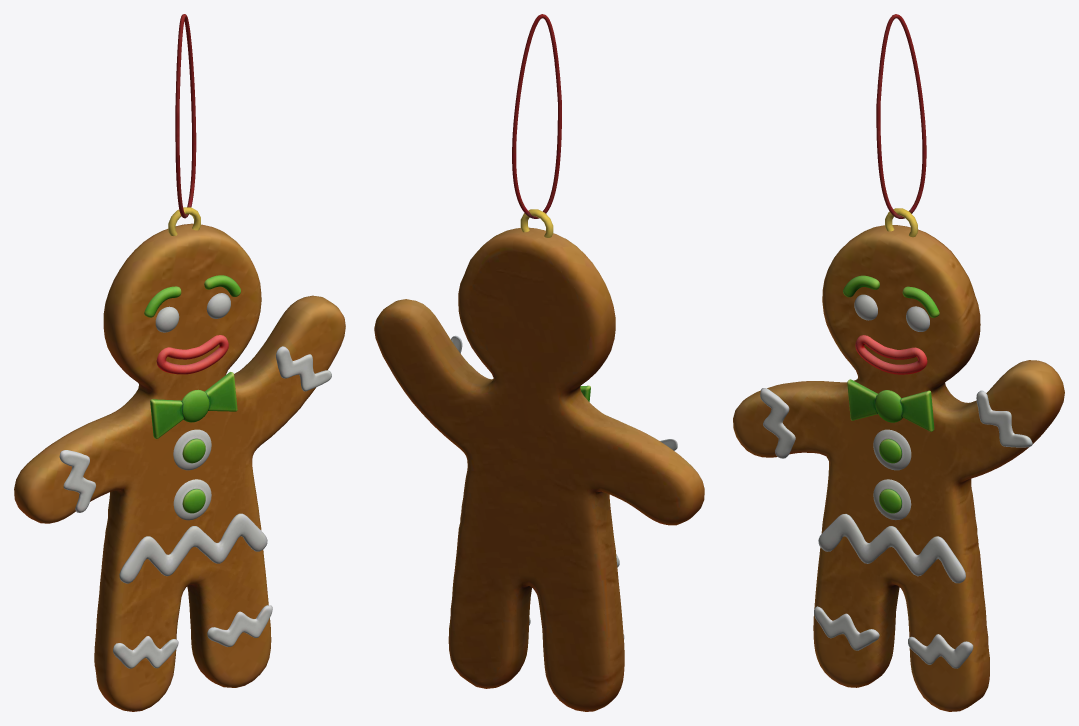
File: gingerbread_man-c.glb
The picture shows the model from 3 angles, left to right: view 1: azimuth 30°, elevation 25°; view 2: azimuth 150°, elevation 25°; view 3: azimuth 330°, elevation 25°; orthographic projection.
Parts seen in each view (by area): view 1: GingerBreadMan_M_Coockie_0, GingerBreadMan_M_Decorations_0; view 2: GingerBreadMan_M_Coockie_0, GingerBreadMan_M_Decorations_0; view 3: GingerBreadMan_M_Coockie_0, GingerBreadMan_M_Decorations_0.
Part boxes in pixels (x1=…): GingerBreadMan_M_Coockie_0: x1=14, y1=223, x2=345, y2=711; GingerBreadMan_M_Decorations_0: x1=59, y1=14, x2=331, y2=668; GingerBreadMan_M_Coockie_0: x1=374, y1=227, x2=704, y2=711; GingerBreadMan_M_Decorations_0: x1=451, y1=14, x2=677, y2=638; GingerBreadMan_M_Coockie_0: x1=733, y1=225, x2=1064, y2=711; GingerBreadMan_M_Decorations_0: x1=760, y1=14, x2=1032, y2=668.
Size of the model in its own units: 1.26 by 2.56 by 0.1688.
Materials: 2 (2 with a texture image).
